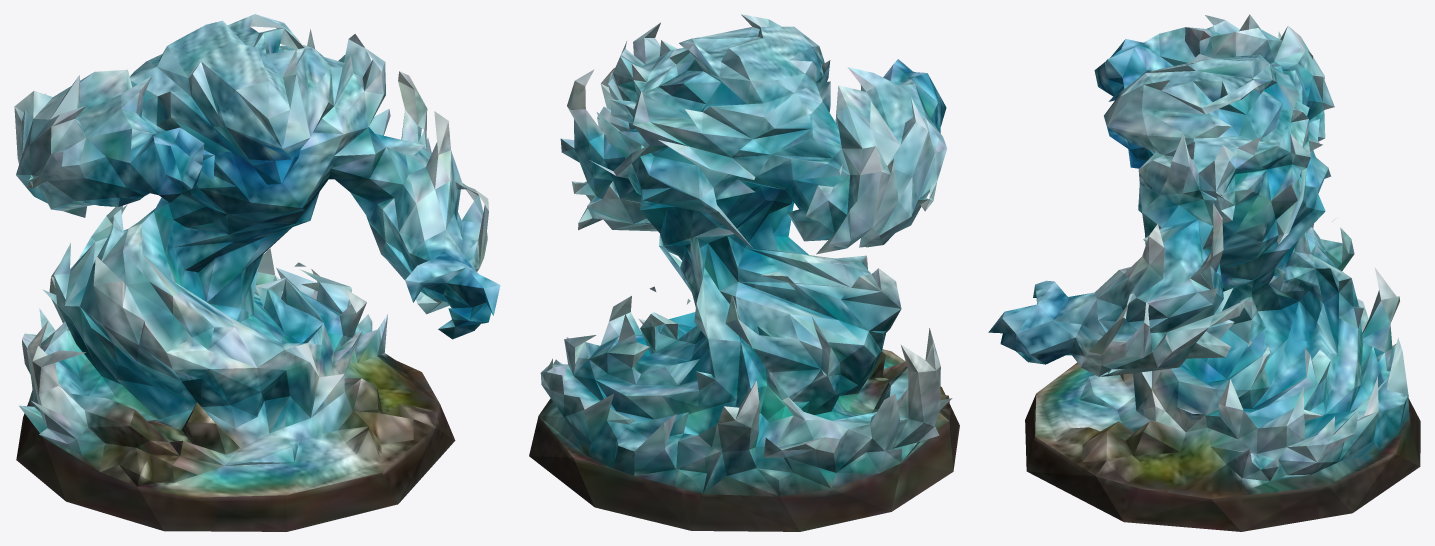
File: elemental_water_lod1.glb
3 renders of one model, left to right at view 1: azimuth 30°, elevation 25°; view 2: azimuth 150°, elevation 25°; view 3: azimuth 270°, elevation 25°, orthographic. The views are drawn at different scales.
Parts seen in each view (by area): view 1: elemental_water_lod1; view 2: elemental_water_lod1; view 3: elemental_water_lod1.
Boxes of the visible parts, x1,y1,x2,y2 form: elemental_water_lod1: (14, 14, 500, 531); elemental_water_lod1: (529, 14, 959, 531); elemental_water_lod1: (988, 14, 1420, 531).
Size of the model in its own units: 2.28 by 2.18 by 2.22.
1 material, 1 textured.
